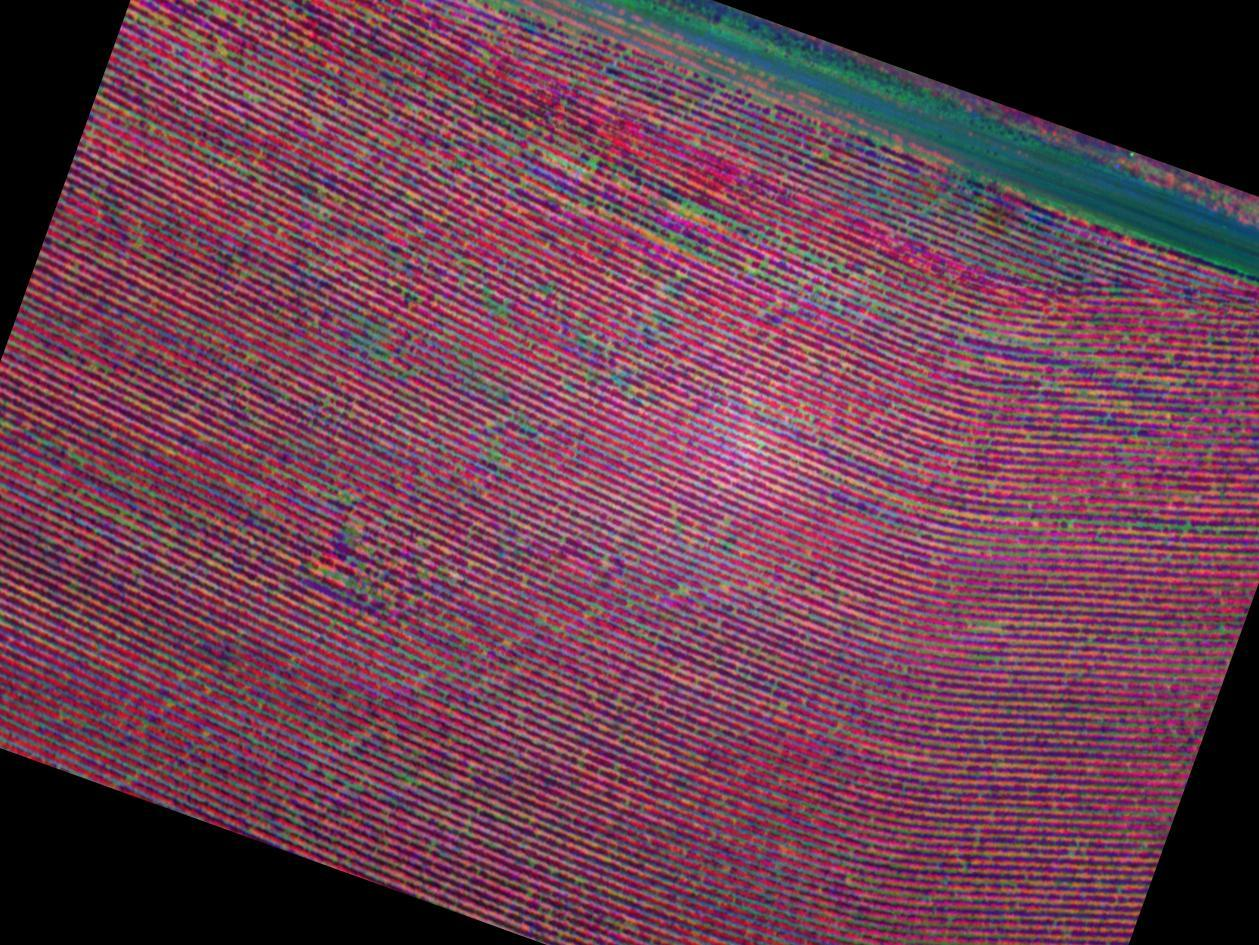dc: (638, 189, 791, 266), (362, 310, 465, 412)
